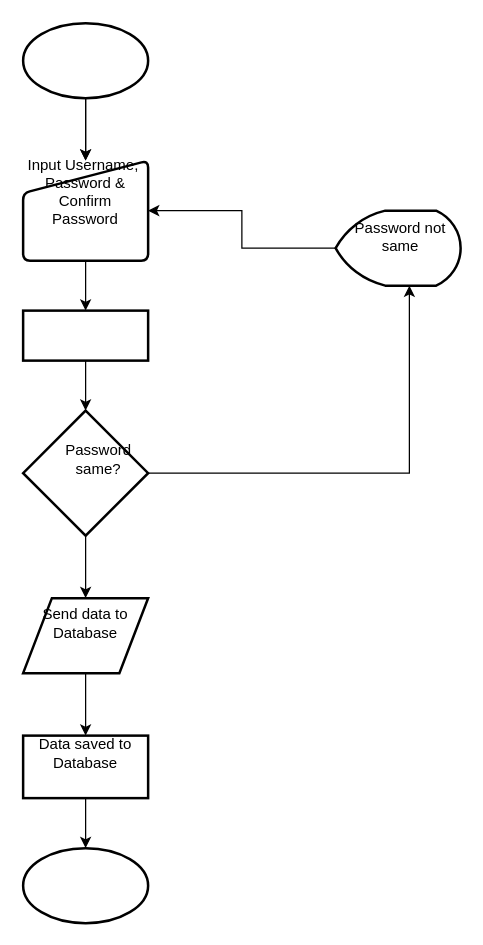
Some shapes in this 483 by 945 pixel diagram are drawn without their labels. Here are the shapes that lost their labels. From the top down, the centre of each, then its label:
At (85,60): "Start".
At (85,335): "Verify Password".
At (85,885): "End".
